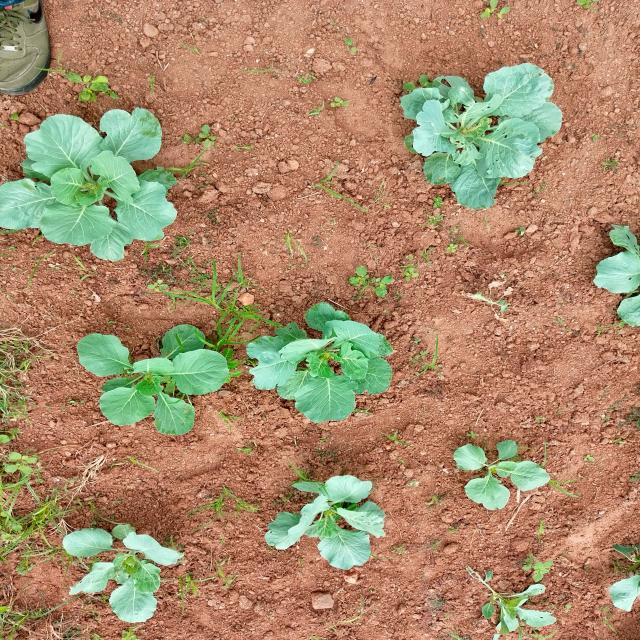Cabbage: (0, 87, 174, 287), (395, 30, 563, 228), (74, 311, 234, 449), (248, 290, 395, 436), (56, 501, 191, 633), (268, 460, 389, 576), (444, 428, 559, 516), (460, 580, 570, 636), (595, 214, 640, 350), (607, 561, 640, 619)
